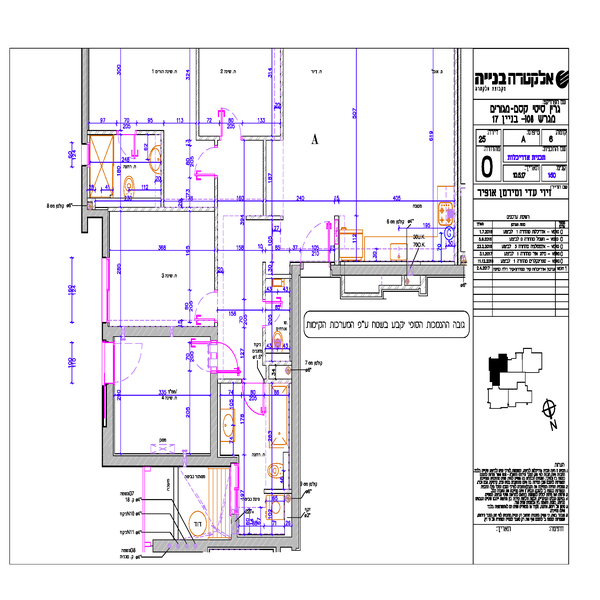door: (292, 213, 336, 272), (101, 344, 148, 387), (209, 334, 249, 377), (242, 379, 277, 425), (189, 146, 228, 181), (217, 106, 245, 145), (197, 289, 227, 322)
room: (265, 44, 467, 278), (82, 50, 273, 221), (95, 319, 226, 469), (212, 367, 299, 549)
wall: (289, 264, 300, 549), (158, 538, 297, 554), (331, 262, 467, 276), (116, 454, 237, 466), (102, 384, 115, 466), (106, 329, 215, 337), (211, 372, 218, 454), (100, 208, 110, 260), (83, 50, 88, 144), (83, 164, 88, 230)
window: (100, 259, 114, 324)
